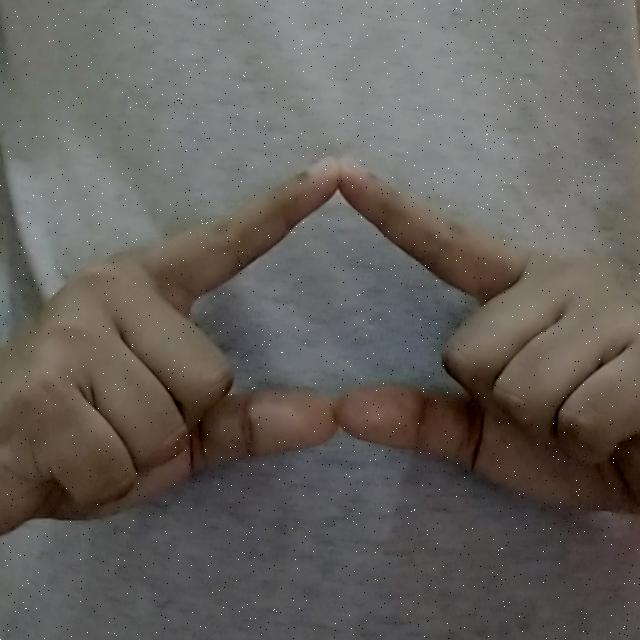A: (19, 148, 628, 530)
